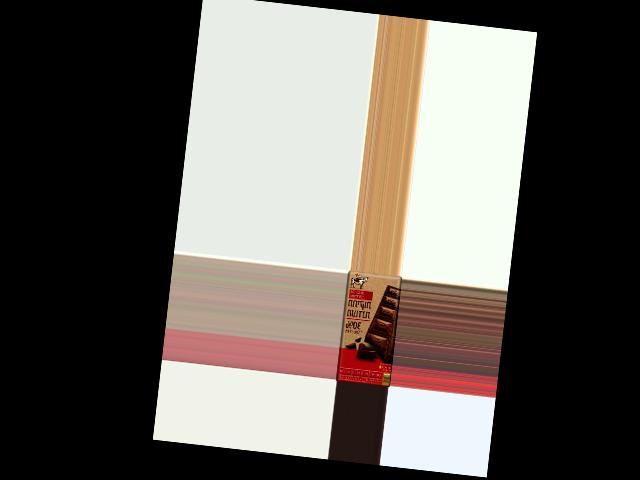chocolate: (335, 270, 402, 386)
